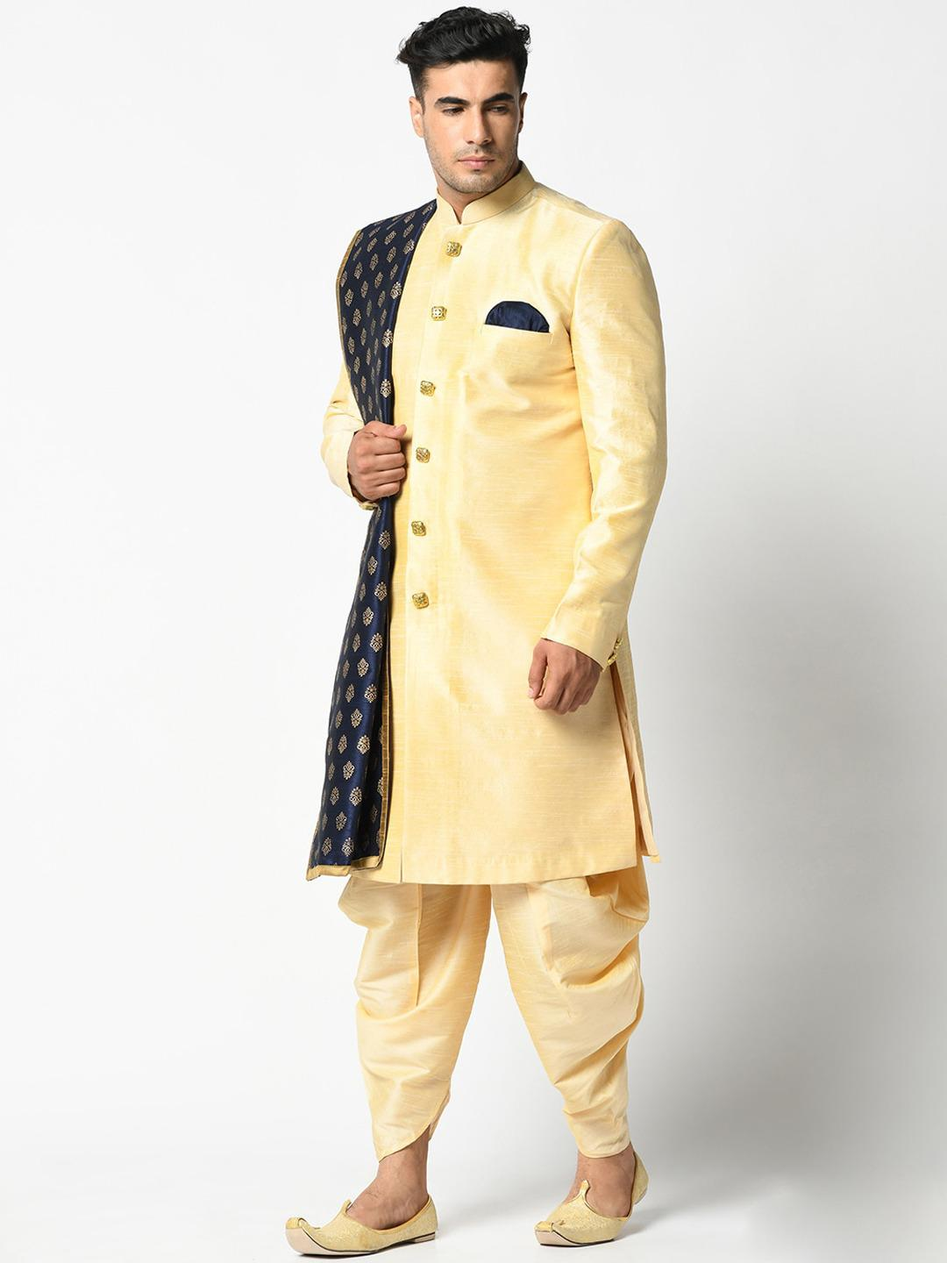Plain Sherwani: (304, 170, 676, 880)
